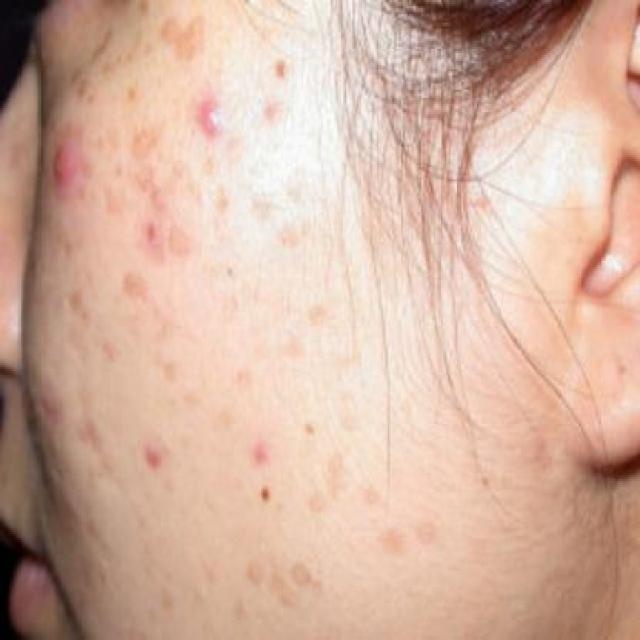Acne: (192, 77, 243, 149), (117, 257, 165, 310), (372, 516, 420, 560), (43, 140, 82, 193), (241, 542, 274, 595), (65, 271, 92, 320), (322, 449, 356, 485), (254, 90, 291, 122), (306, 481, 331, 524), (303, 294, 332, 330), (272, 228, 302, 253)
Blackheads: (250, 475, 284, 511)
